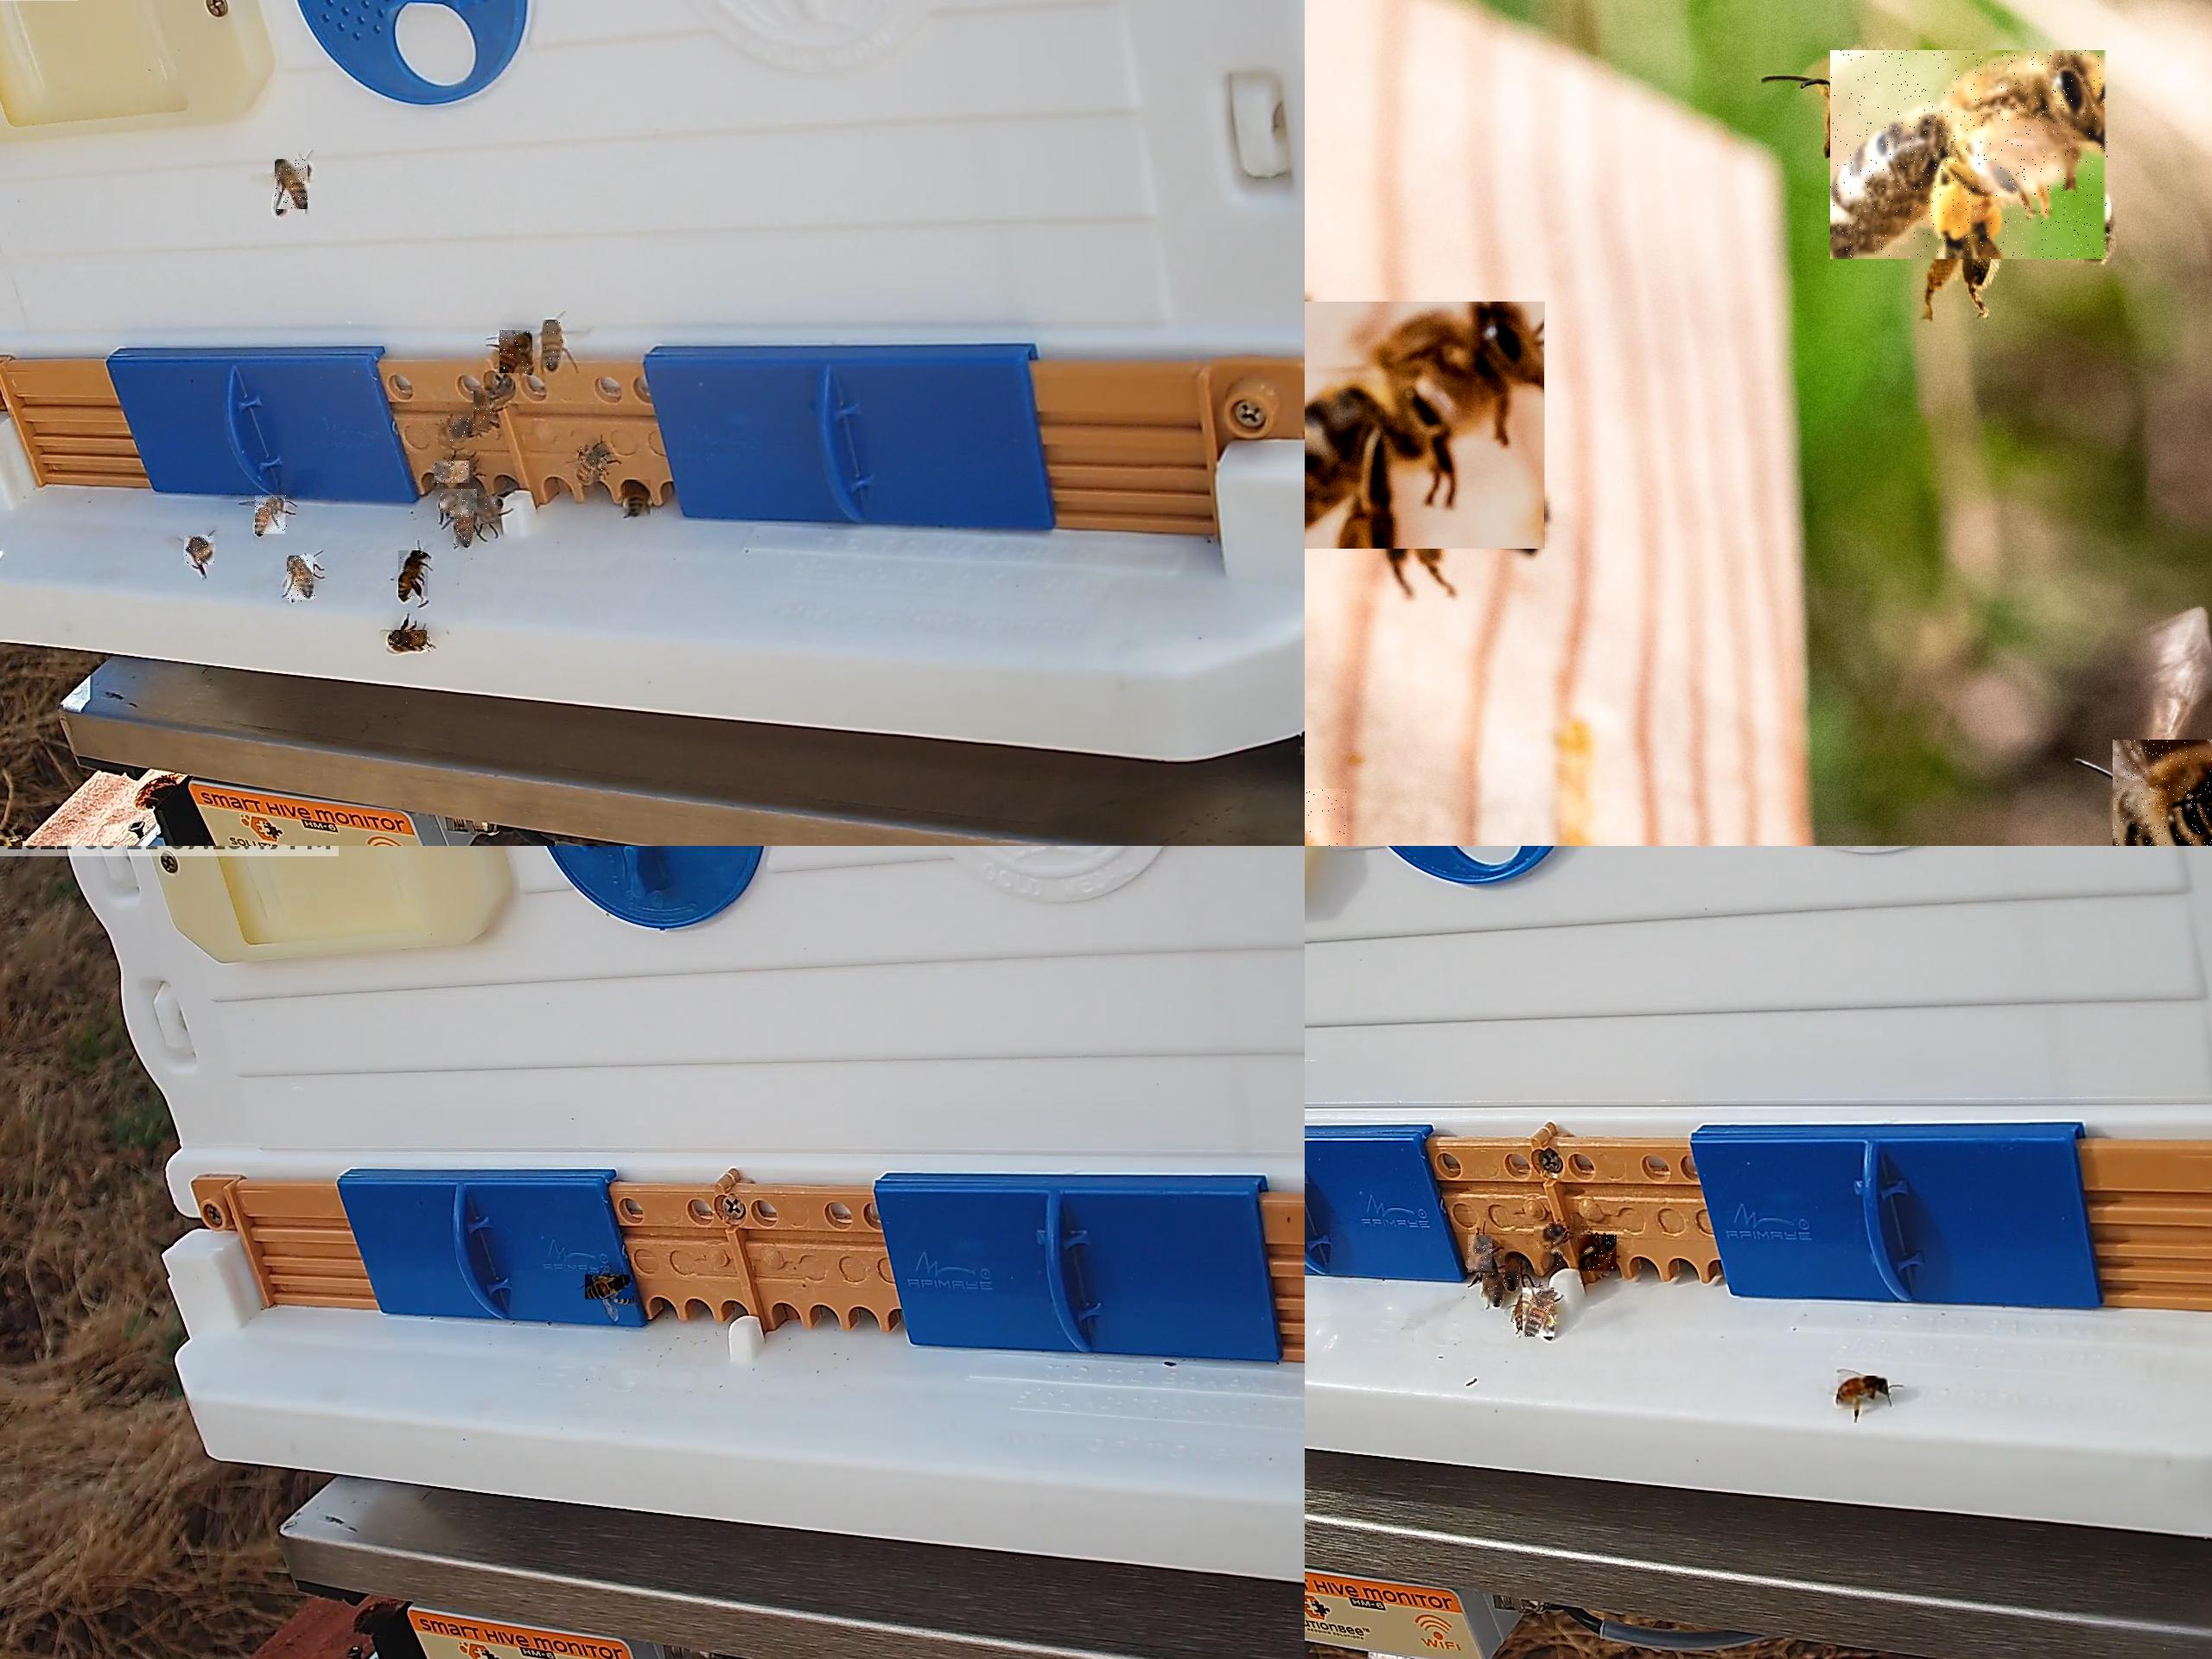bee: (1305, 301, 1548, 551), (2113, 739, 2212, 845), (275, 160, 308, 213), (399, 551, 432, 599), (500, 331, 533, 375), (585, 1276, 634, 1303), (256, 495, 289, 535), (287, 556, 315, 603), (580, 444, 608, 481), (441, 490, 477, 516), (434, 460, 472, 484), (185, 537, 216, 566), (439, 418, 472, 446), (543, 321, 563, 368), (1468, 1236, 1493, 1272), (474, 390, 493, 430), (390, 631, 430, 650), (453, 512, 474, 547), (1512, 1293, 1531, 1330), (1482, 1274, 1503, 1307), (477, 497, 502, 525), (1505, 1256, 1521, 1290), (0, 829, 26, 845)
pollenbee: (1831, 51, 2109, 260), (1838, 1377, 1890, 1410), (1522, 1288, 1555, 1338), (1578, 1236, 1618, 1274), (1534, 1222, 1564, 1267), (625, 479, 651, 518)
